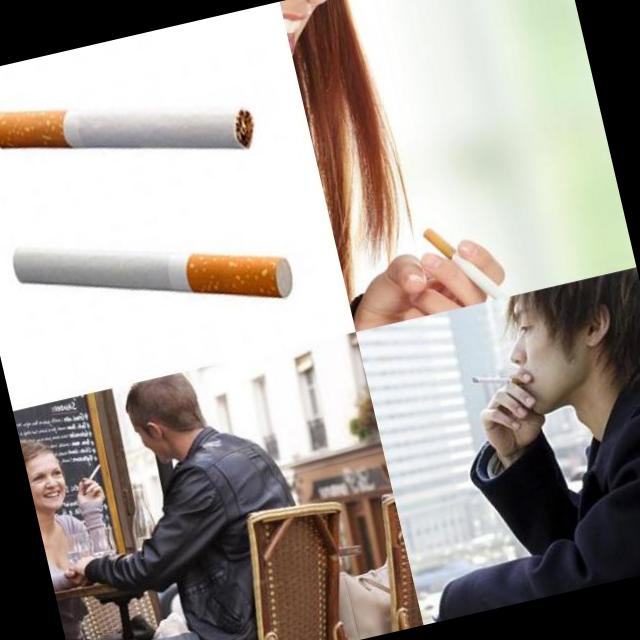cigarette: (8, 186, 298, 357), (0, 54, 258, 203), (419, 210, 515, 312), (470, 360, 530, 390), (84, 462, 104, 482)
